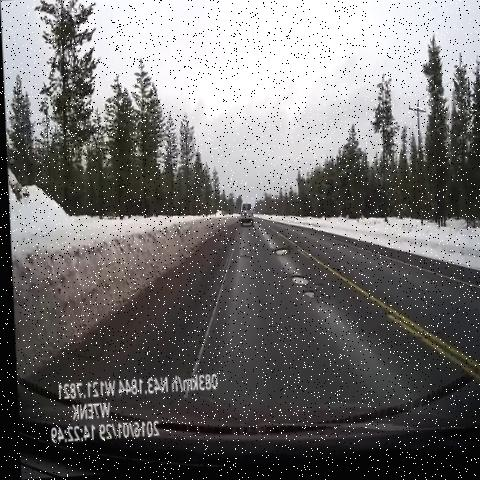pothole: (294, 282, 324, 316), (281, 269, 312, 294), (268, 243, 292, 271), (234, 248, 250, 270)
